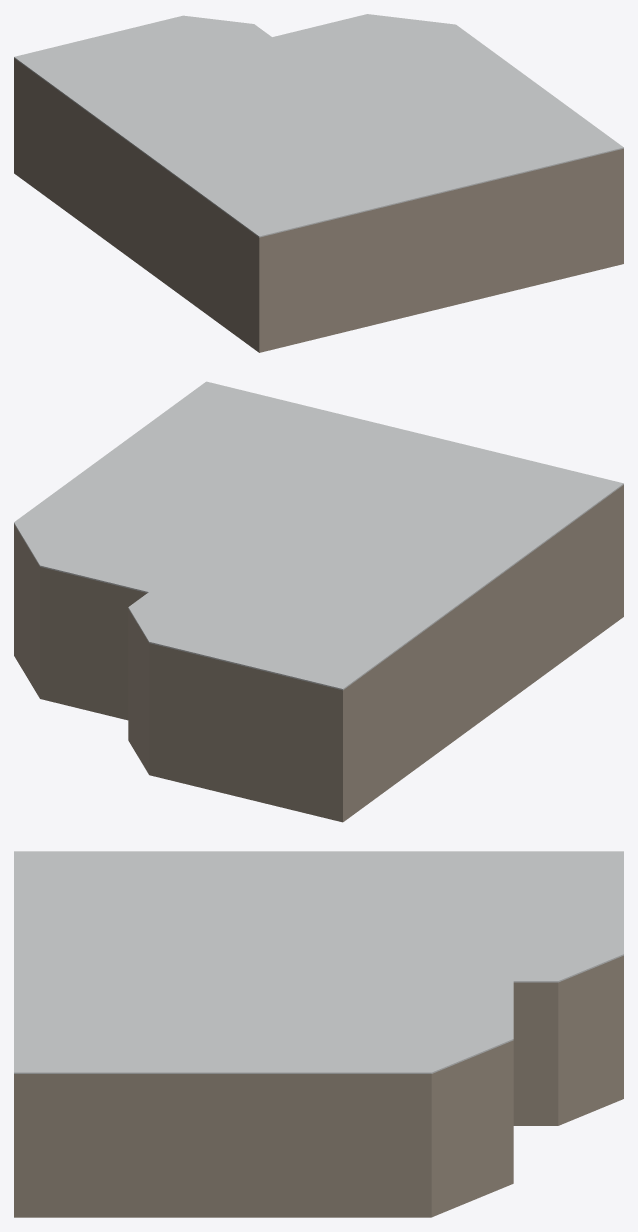
The model's file is Building W footprint.glb.
3 renders of one model, top to bottom at view 1: azimuth 30°, elevation 25°; view 2: azimuth 150°, elevation 25°; view 3: azimuth 270°, elevation 25°, orthographic. The views are drawn at different scales.
Parts seen in each view (by area): view 1: Mesh_Mesh_head_geo.001_lambert2SG.001; view 2: Mesh_Mesh_head_geo.001_lambert2SG.001; view 3: Mesh_Mesh_head_geo.001_lambert2SG.001.
Boxes of the visible parts, <box> form: Mesh_Mesh_head_geo.001_lambert2SG.001: <box>14,14,623,352</box>; Mesh_Mesh_head_geo.001_lambert2SG.001: <box>14,381,623,822</box>; Mesh_Mesh_head_geo.001_lambert2SG.001: <box>14,851,623,1217</box>.
Size of the model in its own units: 165 by 50.5 by 193.
